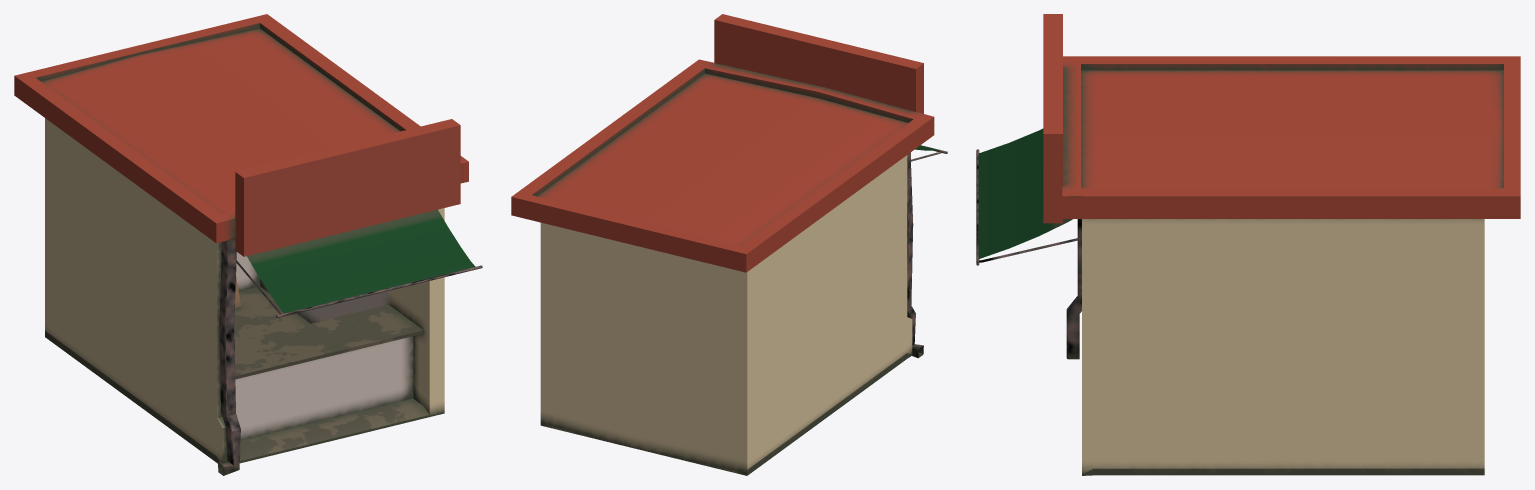
Rendered from CR_Shop_2 (1).fbx.
3 renders of one model, left to right at view 1: azimuth 30°, elevation 25°; view 2: azimuth 150°, elevation 25°; view 3: azimuth 270°, elevation 25°, orthographic. The views are drawn at different scales.
Visible parts, largest first — view 1: Shop, Banner; view 2: Shop, Banner; view 3: Shop, Banner.
Part boxes in pixels (x1,y1,x2,y2): Shop: (14,14,482,475); Banner: (235,119,460,256); Shop: (511,59,947,475); Banner: (714,14,923,113); Shop: (976,56,1520,475); Banner: (1043,14,1062,223).
Bounding box in the file's own units: 336 × 385 × 552.
Materials: 4 (2 with a texture image).
